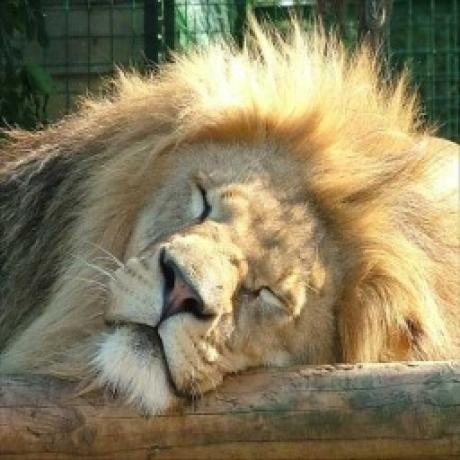Lion: (0, 18, 460, 422)
